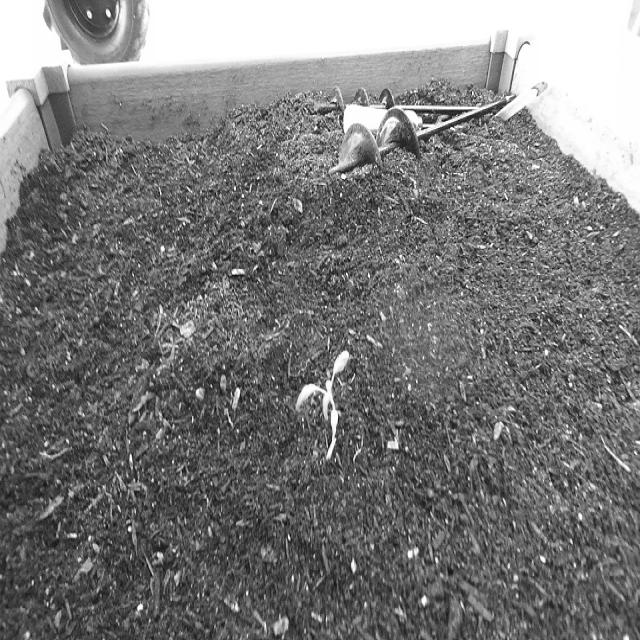Healthy: (292, 339, 354, 471)
